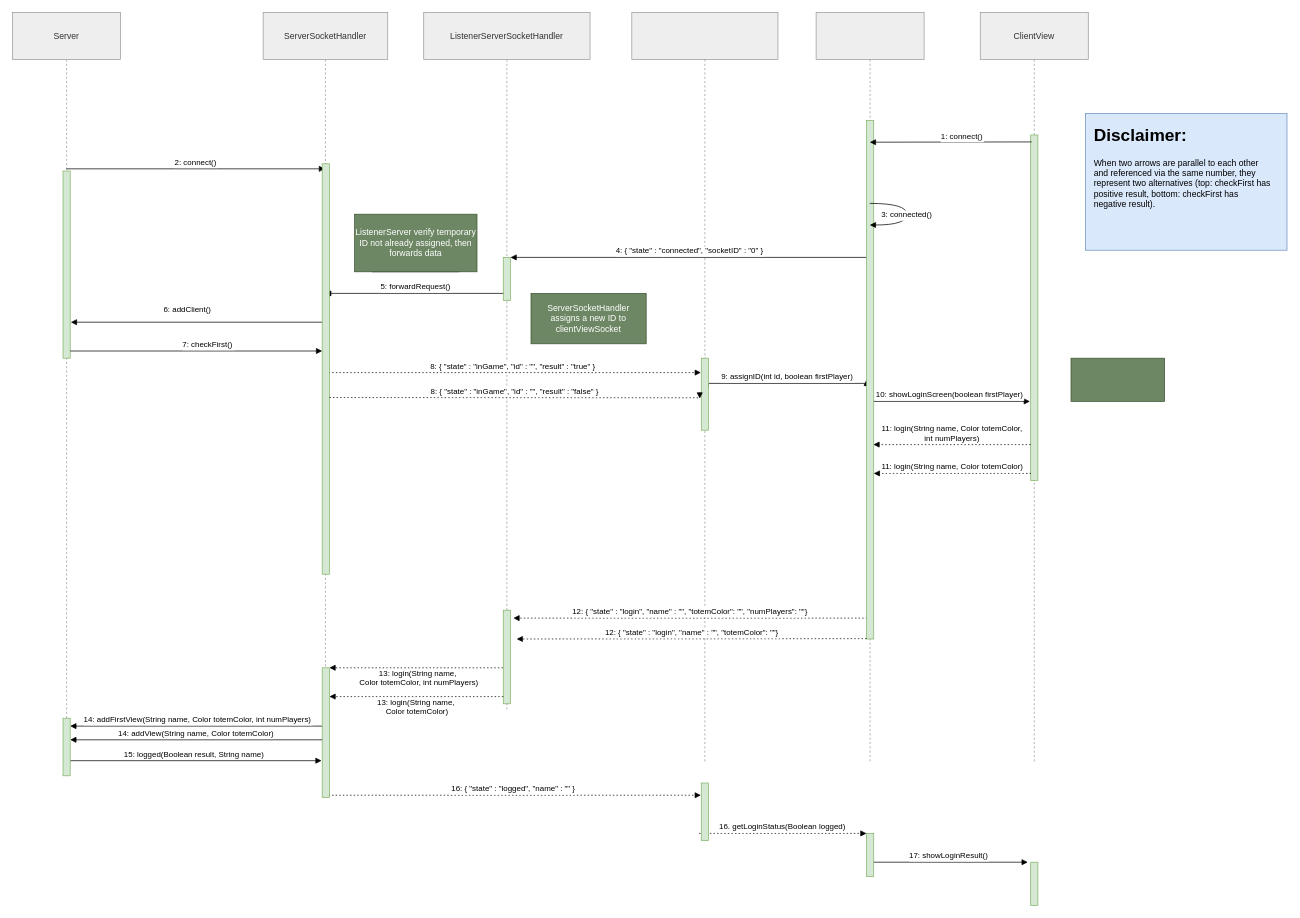
Some shapes in this 1300 by 918 pixel diagram are drawn without their labels. Each missing label, with the box of its shape:
ClientViewSocket: (815, 12, 924, 763)
First player chooses number of participants: (1070, 357, 1165, 401)
ListenerClientViewSocket: (631, 12, 778, 763)
